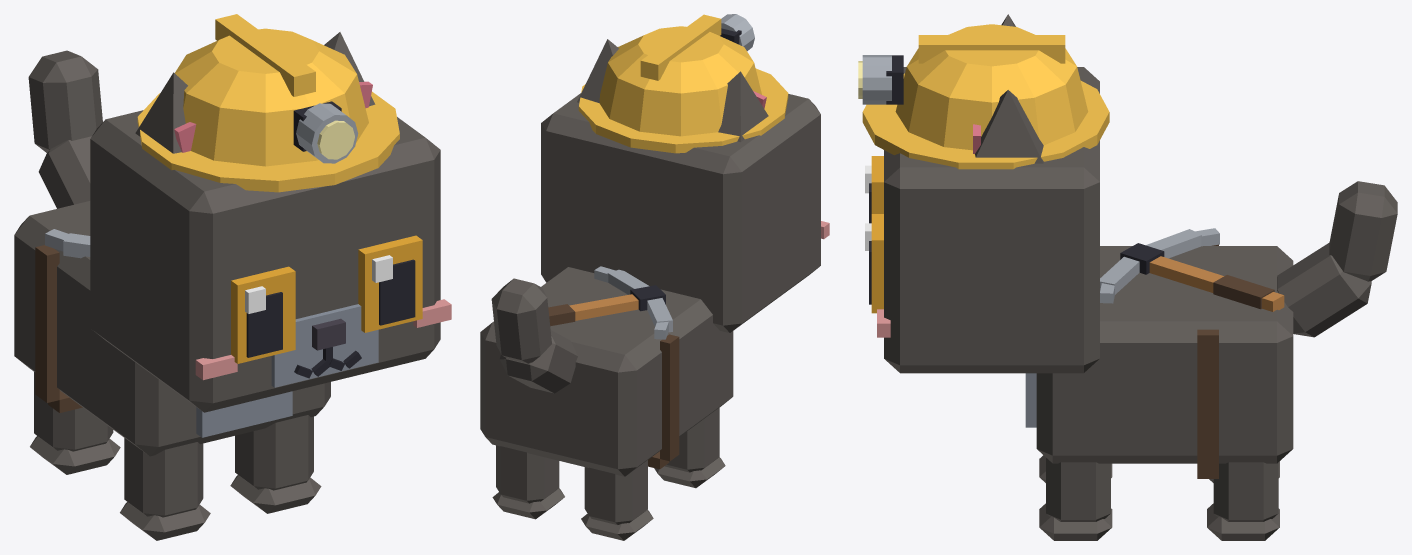
File: CatCafe_Cat_Lantern.fbx
3 views of the same model, side by side, from view 1: azimuth 30°, elevation 25°; view 2: azimuth 150°, elevation 25°; view 3: azimuth 270°, elevation 25° (orthographic). The views are drawn at different scales.
Parts seen in each view (by area): view 1: CatCafe_Cat_Lantern_Head, CatCafe_Cat_Lantern_Prop, CatCafe_Cat_Lantern_Body, CatCafe_Cat_Lantern_Tail, CatCafe_Cat_Lantern_LegF2, CatCafe_Cat_Lantern_LegF1, CatCafe_Cat_Lantern_Eye2, CatCafe_Cat_Lantern_Eye1, CatCafe_Cat_Lantern_Prop2, CatCafe_Cat_Lantern_LegB2, CatCafe_Cat_Lantern_EarR, CatCafe_Cat_Lantern_EarL; view 2: CatCafe_Cat_Lantern_Head, CatCafe_Cat_Lantern_Body, CatCafe_Cat_Lantern_Prop, CatCafe_Cat_Lantern_Tail, CatCafe_Cat_Lantern_Prop2, CatCafe_Cat_Lantern_LegB2, CatCafe_Cat_Lantern_LegB1, CatCafe_Cat_Lantern_LegF2, CatCafe_Cat_Lantern_EarR, CatCafe_Cat_Lantern_EarL; view 3: CatCafe_Cat_Lantern_Head, CatCafe_Cat_Lantern_Body, CatCafe_Cat_Lantern_Prop, CatCafe_Cat_Lantern_Tail, CatCafe_Cat_Lantern_Prop2, CatCafe_Cat_Lantern_LegF1, CatCafe_Cat_Lantern_LegB1, CatCafe_Cat_Lantern_EarL, CatCafe_Cat_Lantern_Eye1, CatCafe_Cat_Lantern_Eye2.
Part boxes in pixels (x1,y1,x2,y2): CatCafe_Cat_Lantern_Head: (90, 110, 451, 412); CatCafe_Cat_Lantern_Prop: (137, 14, 399, 192); CatCafe_Cat_Lantern_Body: (14, 201, 330, 456); CatCafe_Cat_Lantern_Tail: (28, 50, 102, 208); CatCafe_Cat_Lantern_LegF2: (120, 438, 210, 540); CatCafe_Cat_Lantern_LegF1: (230, 415, 321, 513); CatCafe_Cat_Lantern_Eye2: (231, 266, 295, 363); CatCafe_Cat_Lantern_Eye1: (358, 235, 422, 332); CatCafe_Cat_Lantern_Prop2: (35, 229, 90, 412); CatCafe_Cat_Lantern_LegB2: (30, 372, 120, 474); CatCafe_Cat_Lantern_EarR: (135, 72, 196, 153); CatCafe_Cat_Lantern_EarL: (324, 32, 375, 108); CatCafe_Cat_Lantern_Head: (541, 93, 829, 332); CatCafe_Cat_Lantern_Body: (480, 267, 733, 476); CatCafe_Cat_Lantern_Prop: (578, 14, 788, 153); CatCafe_Cat_Lantern_Tail: (491, 278, 577, 393); CatCafe_Cat_Lantern_Prop2: (548, 266, 679, 469); CatCafe_Cat_Lantern_LegB2: (581, 460, 653, 540); CatCafe_Cat_Lantern_LegB1: (492, 445, 564, 519); CatCafe_Cat_Lantern_LegF2: (654, 407, 725, 488); CatCafe_Cat_Lantern_EarR: (718, 71, 768, 142); CatCafe_Cat_Lantern_EarL: (577, 39, 618, 103); CatCafe_Cat_Lantern_Head: (877, 67, 1099, 373); CatCafe_Cat_Lantern_Body: (1025, 246, 1293, 463); CatCafe_Cat_Lantern_Prop: (858, 24, 1109, 169); CatCafe_Cat_Lantern_Tail: (1277, 181, 1397, 337); CatCafe_Cat_Lantern_Prop2: (1100, 228, 1284, 478); CatCafe_Cat_Lantern_LegF1: (1039, 458, 1112, 540); CatCafe_Cat_Lantern_LegB1: (1207, 462, 1279, 540); CatCafe_Cat_Lantern_EarL: (973, 90, 1043, 163); CatCafe_Cat_Lantern_Eye1: (865, 214, 883, 313); CatCafe_Cat_Lantern_Eye2: (865, 156, 883, 223).
Bounding box in the file's own units: 1 × 1.91 × 2.
Materials: 1 (1 with a texture image).
